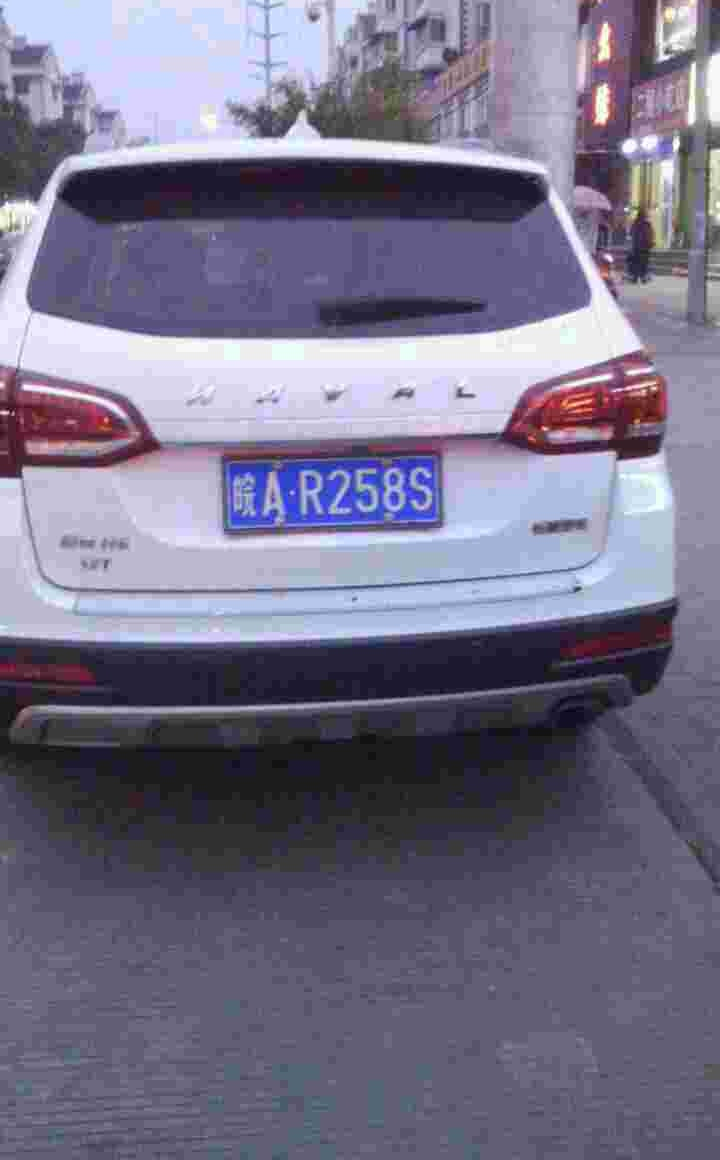license_plate: (222, 458, 434, 531)
